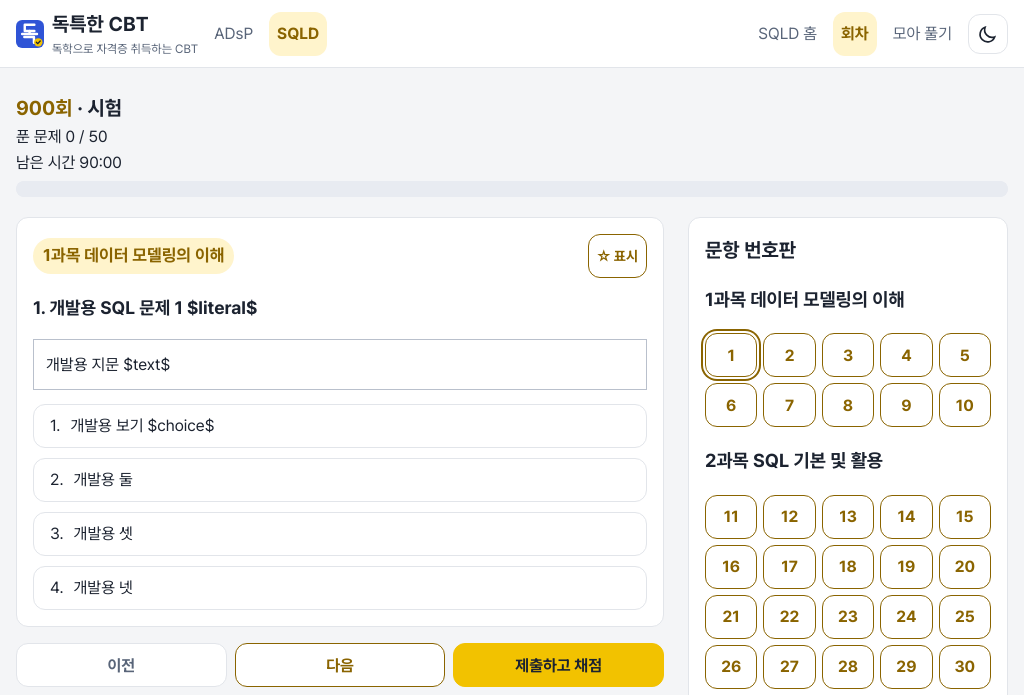
SQLD exam submission stores exactly two subject keys and opens result/review
Expected: the heading "900회 · 시험" is shown, 16,96 -> 122,120
Click the button "1. 개발용 보기 $choice$".
click(142, 426)  # box 33,404 -> 647,448
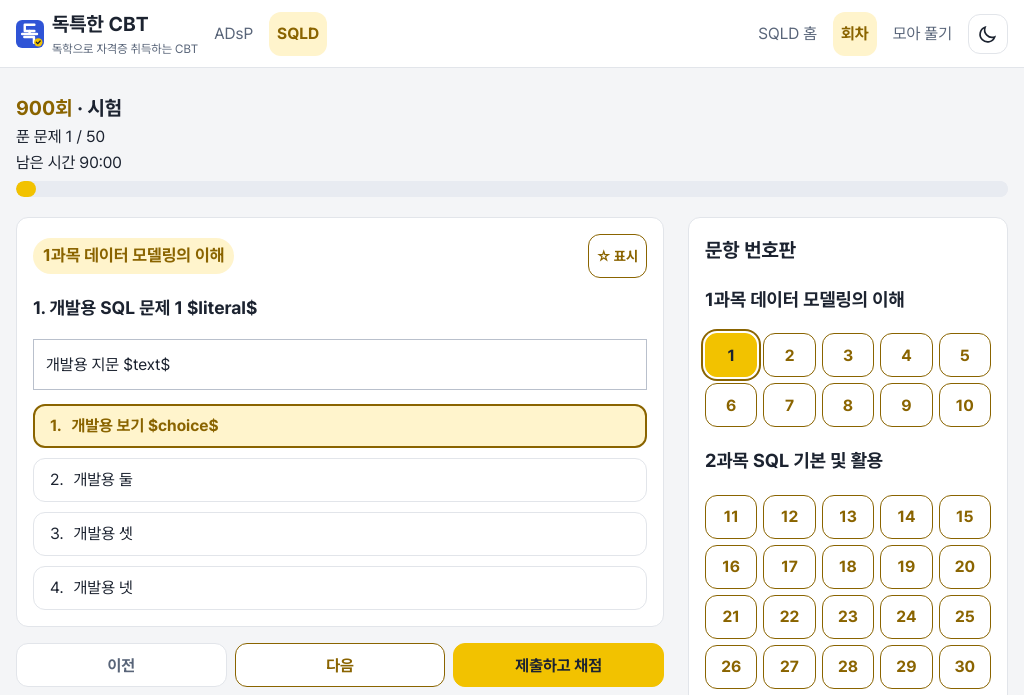
Expected: the text "개발용 해설 $answer$" is not shown
Click the button "제출하고 채점".
click(559, 665)  # box 453,643 -> 664,687
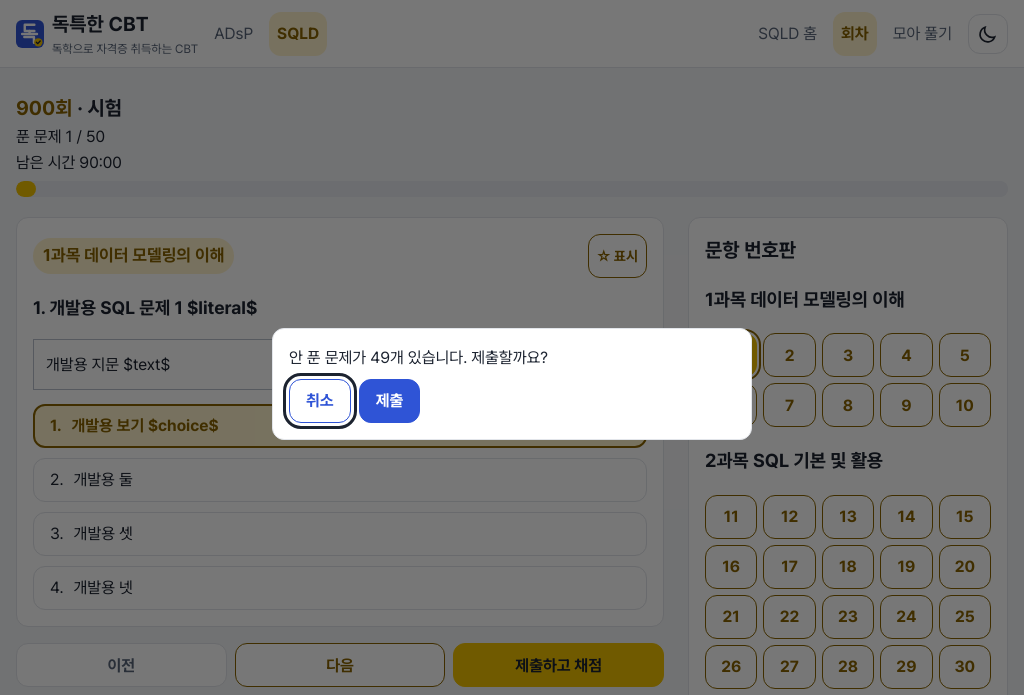
Click the button "제출".
click(390, 401)  # box 359,379 -> 420,423
(page scrolled)
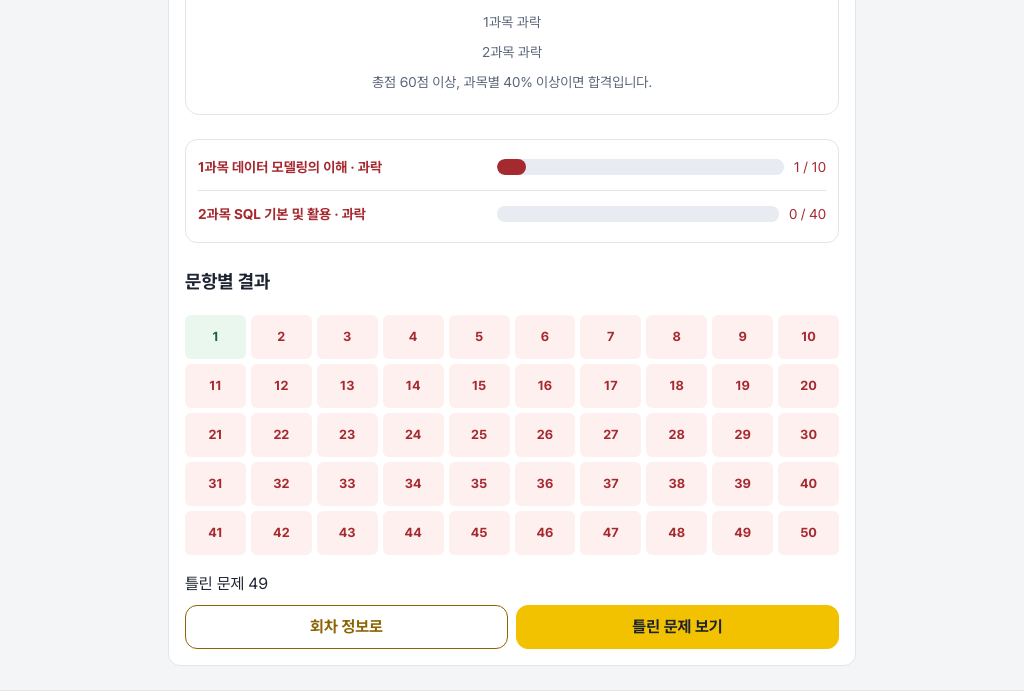
Click the link "틀린 문제 보기".
click(678, 627)  # box 516,605 -> 839,649
(page scrolled)
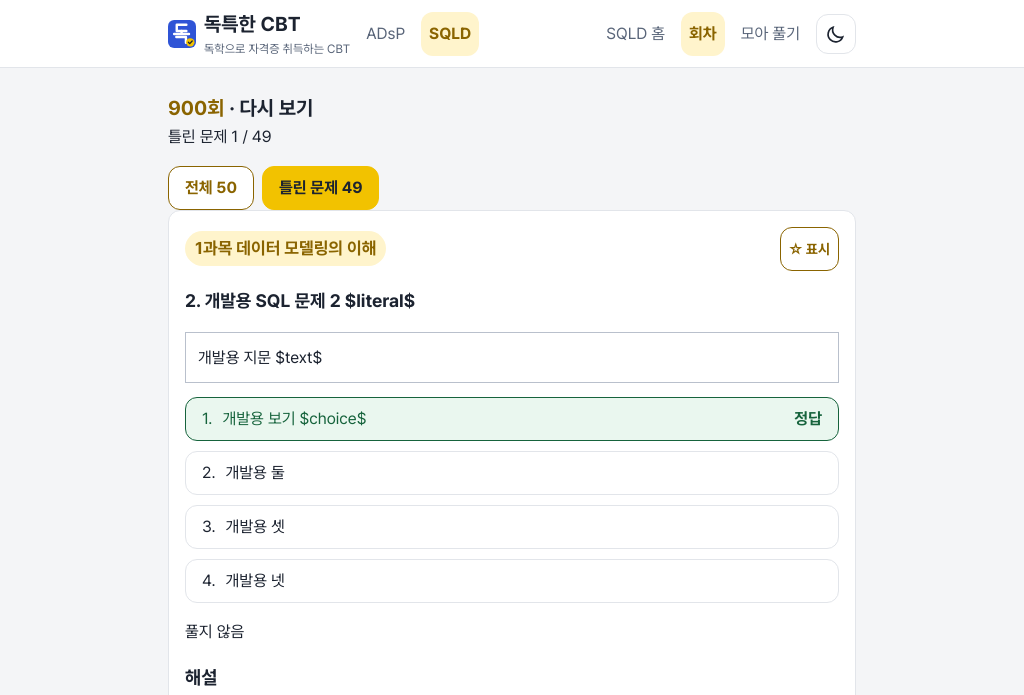
Result: the heading "900회 · 다시 보기" is shown at 168,96 -> 313,120
